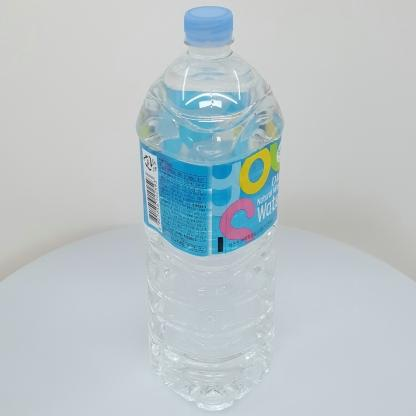--------1-5L: (136, 6, 284, 412)
